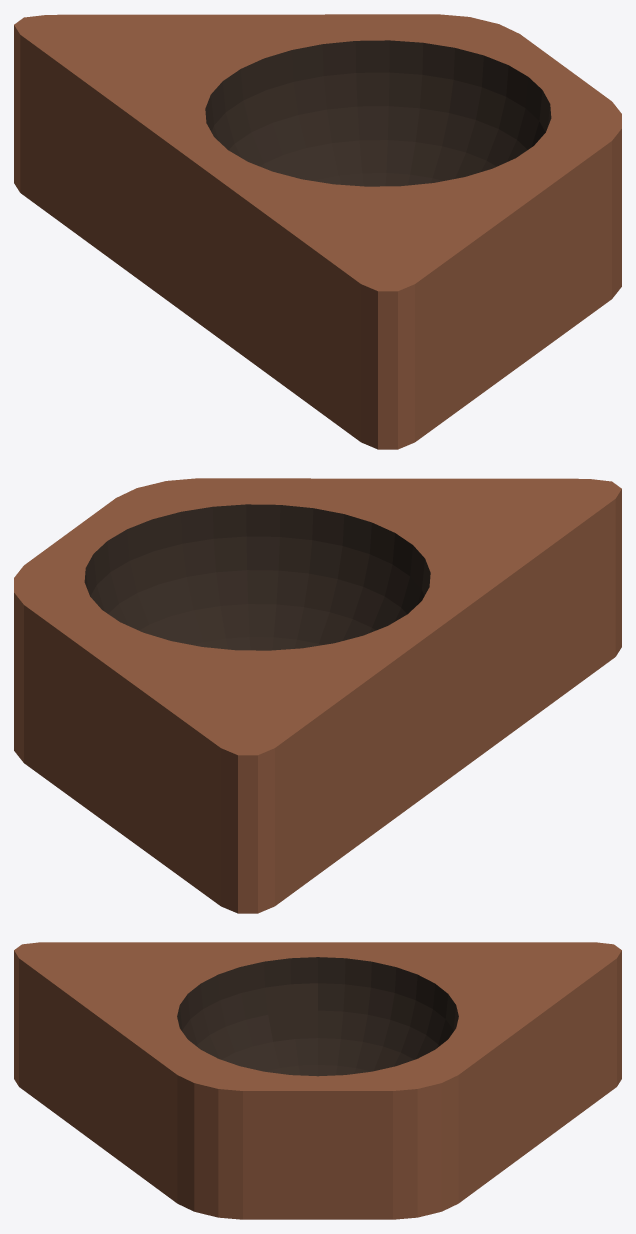
Rendered from Triangular Cannon Ball Holder 1 Ball.fbx.
The picture shows the model from 3 angles, top to bottom: view 1: azimuth 30°, elevation 25°; view 2: azimuth 150°, elevation 25°; view 3: azimuth 270°, elevation 25°; orthographic projection. The views are drawn at different scales.
Parts seen in each view (by area): view 1: Triangular Cannon Ball Holder 1 Ball; view 2: Triangular Cannon Ball Holder 1 Ball; view 3: Triangular Cannon Ball Holder 1 Ball.
Boxes of the visible parts, <box> form: Triangular Cannon Ball Holder 1 Ball: <box>14,14,621,449</box>; Triangular Cannon Ball Holder 1 Ball: <box>14,478,621,913</box>; Triangular Cannon Ball Holder 1 Ball: <box>14,942,621,1219</box>.
Size of the model in its own units: 250 by 101 by 431.
